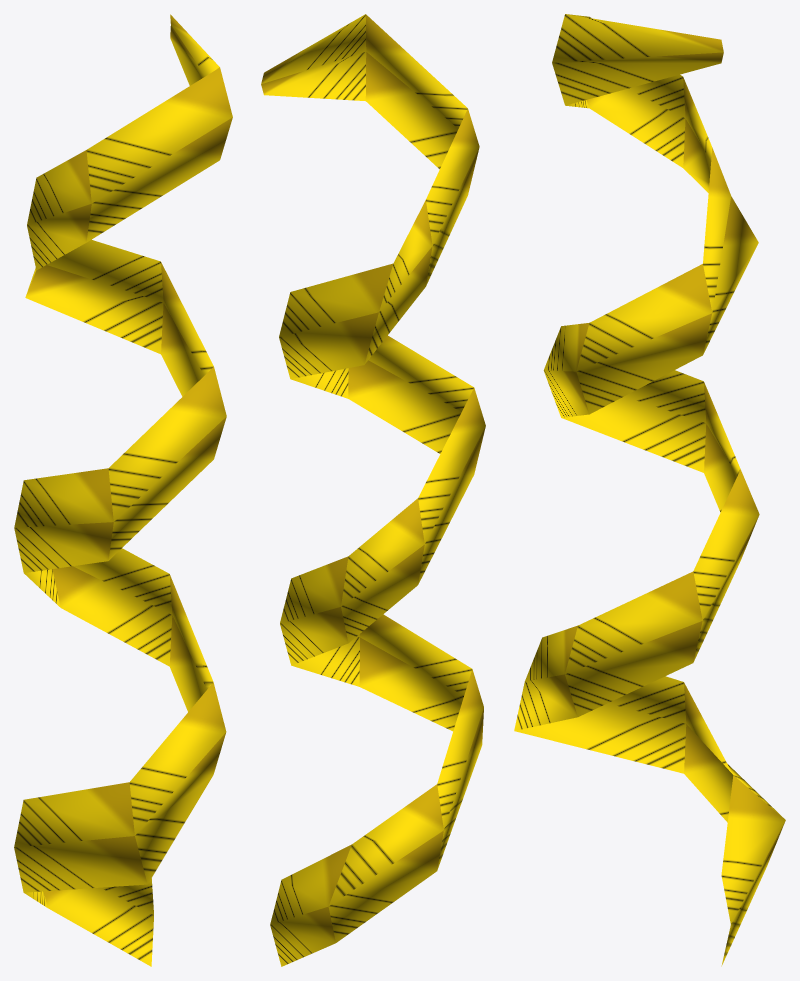
File: InteriorLight05_Art.fbx
The picture shows the model from 3 angles, left to right: view 1: azimuth 30°, elevation 25°; view 2: azimuth 150°, elevation 25°; view 3: azimuth 270°, elevation 25°; orthographic projection. The views are drawn at different scales.
Parts seen in each view (by area): view 1: InteriorLight05_Art; view 2: InteriorLight05_Art; view 3: InteriorLight05_Art.
Part boxes in pixels (<box>): InteriorLight05_Art: <box>14,14,232,966</box>; InteriorLight05_Art: <box>261,14,485,966</box>; InteriorLight05_Art: <box>514,14,785,966</box>.
Bounding box in the file's own units: 0.4874 × 2.54 × 0.6607.
